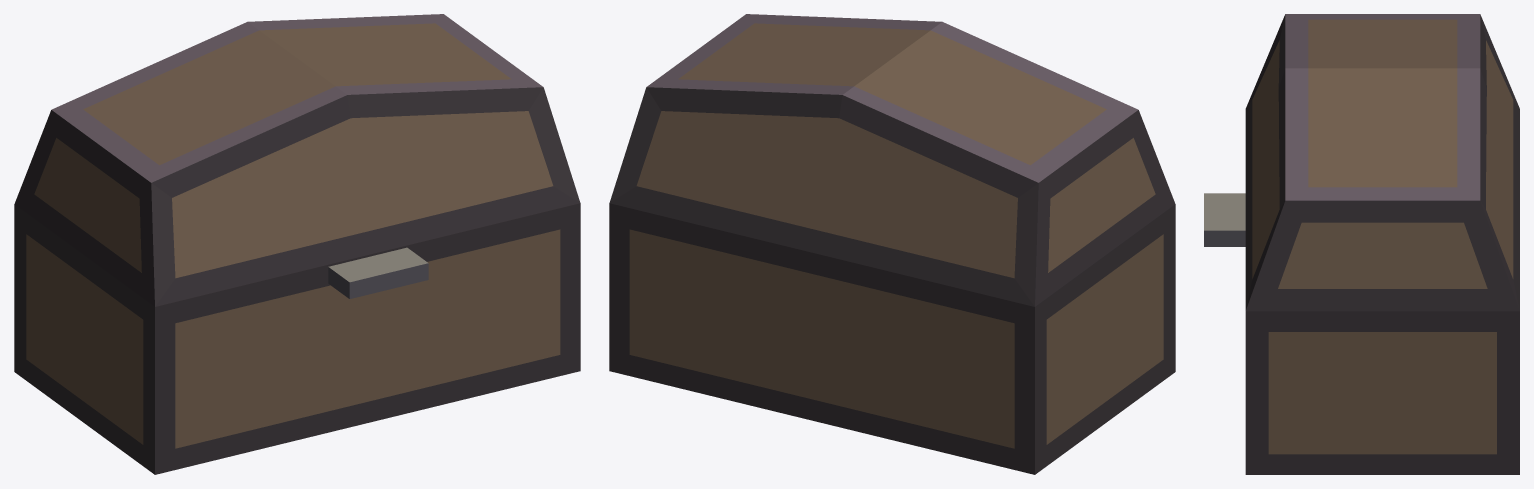
The model's file is TB_D_Prop_ChestB_A.FBX.
3 renders of one model, left to right at view 1: azimuth 30°, elevation 25°; view 2: azimuth 150°, elevation 25°; view 3: azimuth 270°, elevation 25°, orthographic. The views are drawn at different scales.
Parts seen in each view (by area): view 1: TB_D_Prop_ChestB_A; view 2: TB_D_Prop_ChestB_A; view 3: TB_D_Prop_ChestB_A.
Boxes of the visible parts, bbox=[...] form: TB_D_Prop_ChestB_A: bbox=[14, 14, 580, 474]; TB_D_Prop_ChestB_A: bbox=[609, 14, 1175, 474]; TB_D_Prop_ChestB_A: bbox=[1204, 14, 1519, 474].
Bounding box in the file's own units: 1.05 × 0.7358 × 0.6895.
